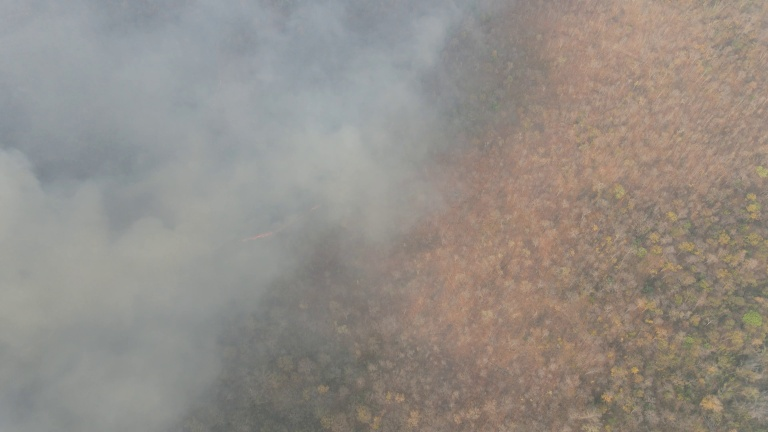fire: (228, 197, 327, 245)
smoke: (1, 4, 483, 432)
